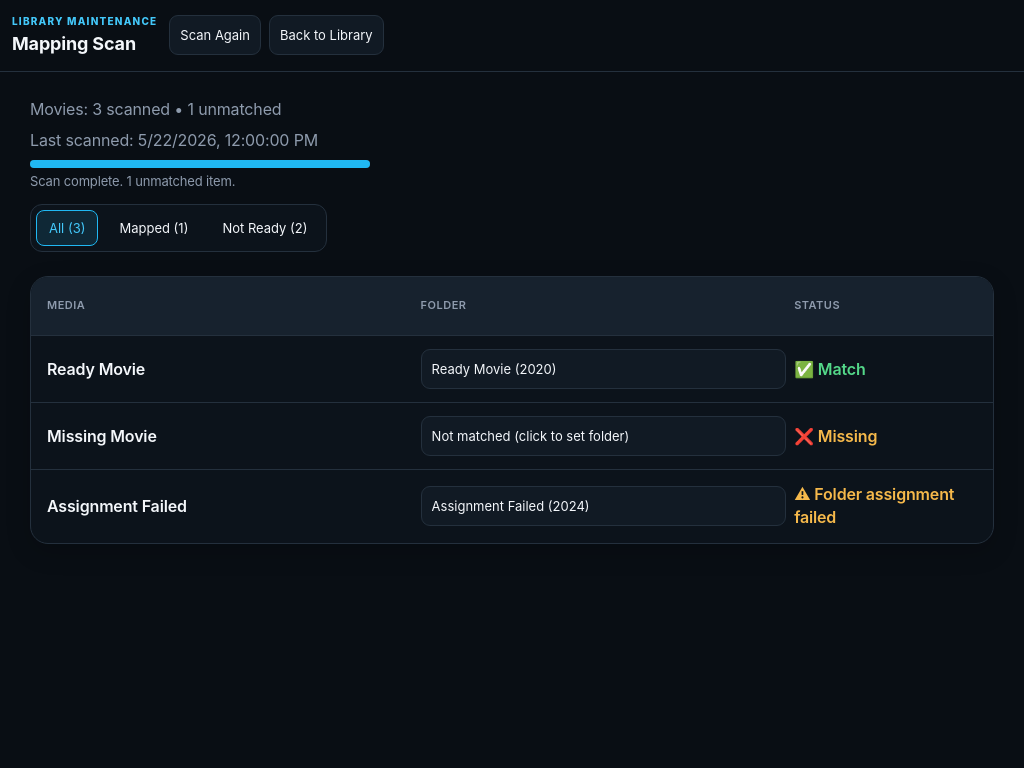
Test: MappingScanPage result filters › filters scanned rows between mapped and not-ready items
expect the text "Ready Movie" is shown: met, box [47,359,145,379]
expect the text "Missing Movie" is shown: met, box [47,426,157,446]
Click the button "Not Ready (2)" at (265, 228), box [209,210,320,246]
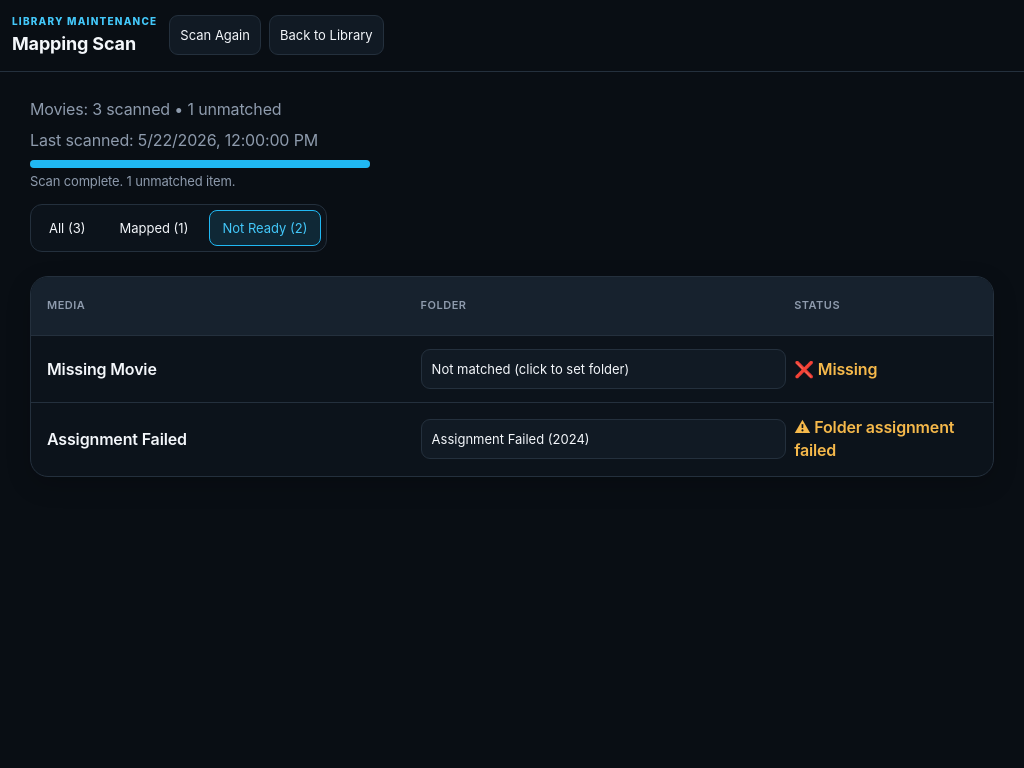
expect the text "Missing Movie" is shown: met, box [47,359,157,379]
expect the text "Ready Movie" is gone: met
Click the button "Mapped (1)" at (154, 228), box [106,210,202,246]
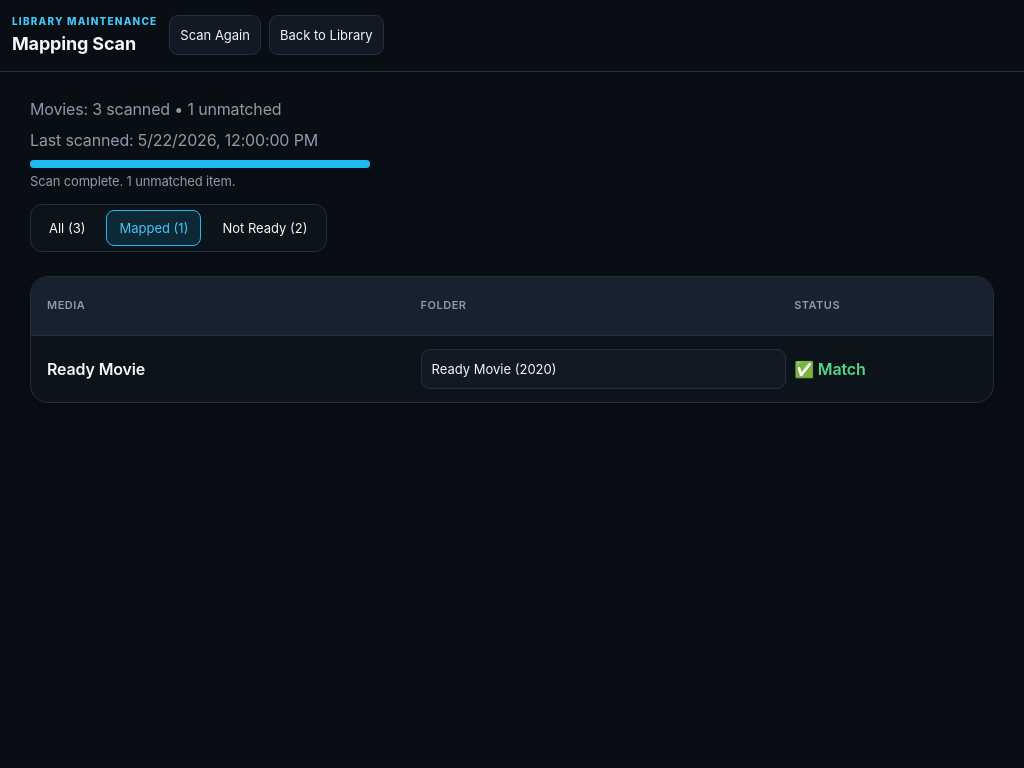
expect the text "Ready Movie" is shown: met, box [47,359,145,379]
expect the text "Missing Movie" is gone: met
expect the text "Assignment Failed" is gone: met
